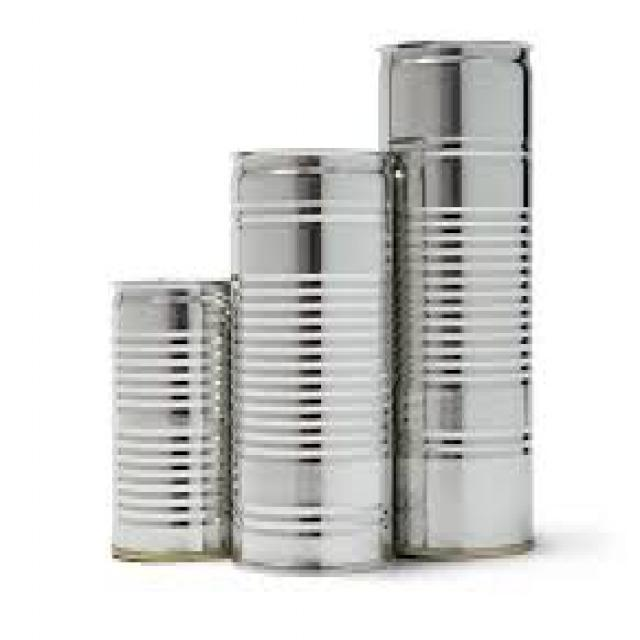metal-can: (372, 37, 536, 560), (224, 143, 398, 577), (104, 274, 234, 568)
